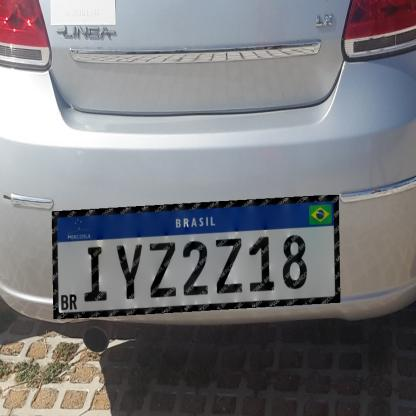PlacaM: (52, 195, 340, 319)
